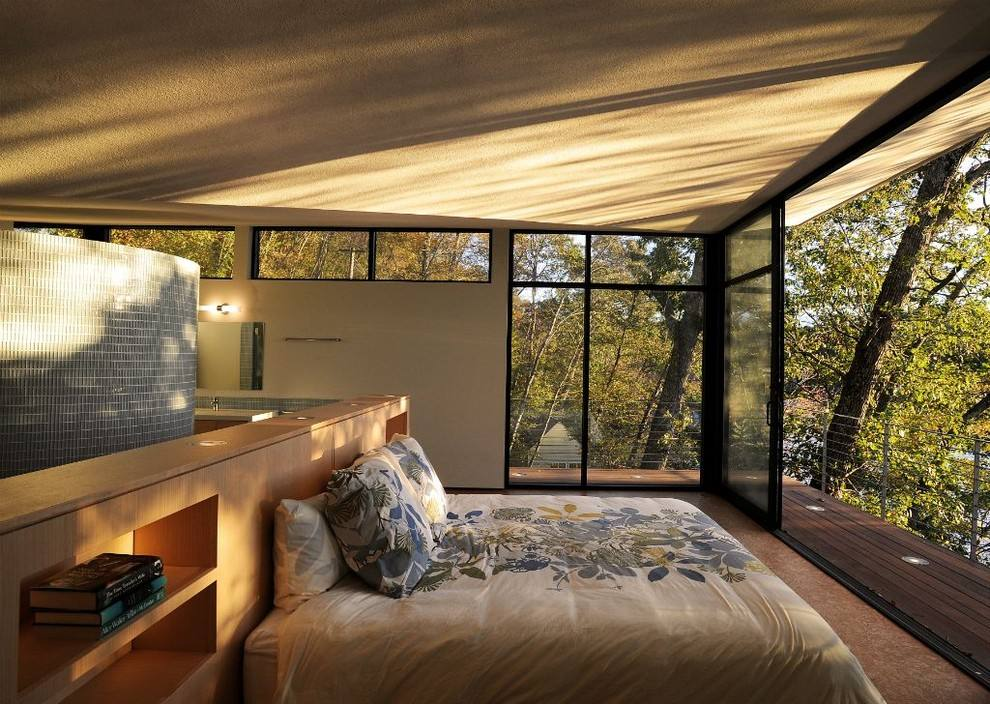床: (259, 498, 879, 702)
枕头: (294, 445, 446, 604)
灯: (198, 296, 254, 324)
